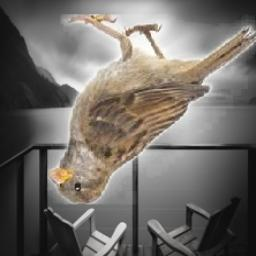Sparrow: (48, 15, 256, 205)
